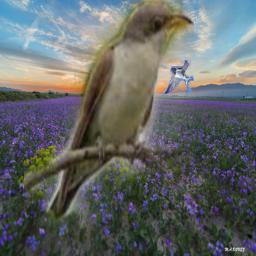Cuckoo: (24, 0, 194, 256)
Swallow: (162, 60, 194, 97)
